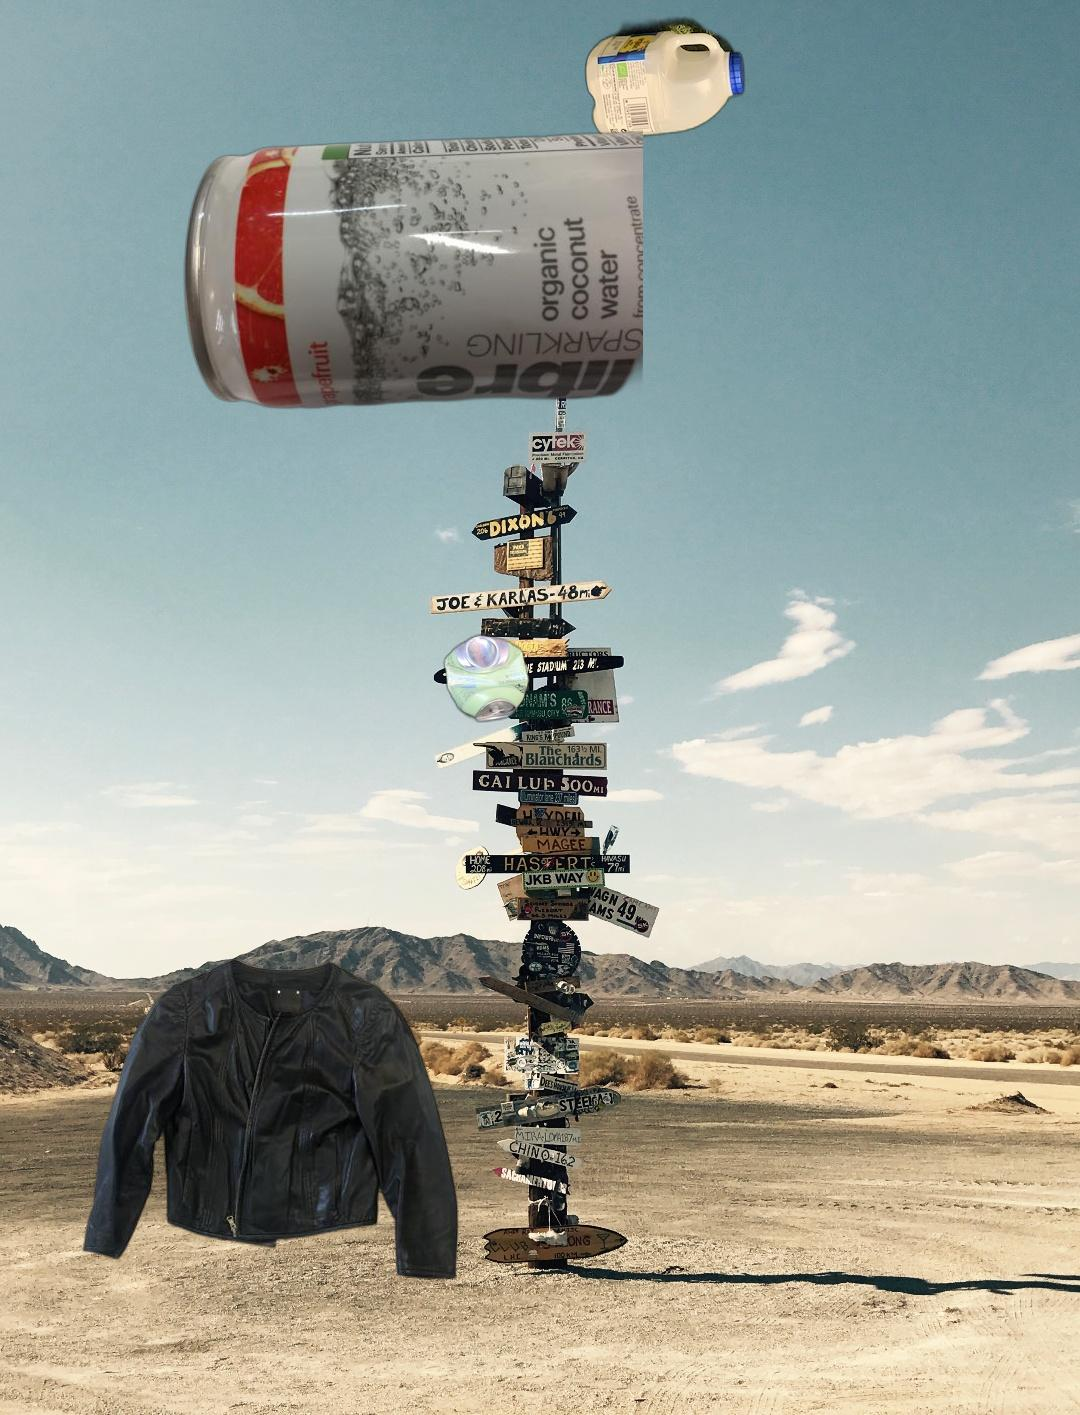clothes: (79, 954, 461, 1285)
metal-cans: (180, 127, 643, 427), (439, 630, 533, 727)
plastic-bottles: (580, 11, 749, 144)
